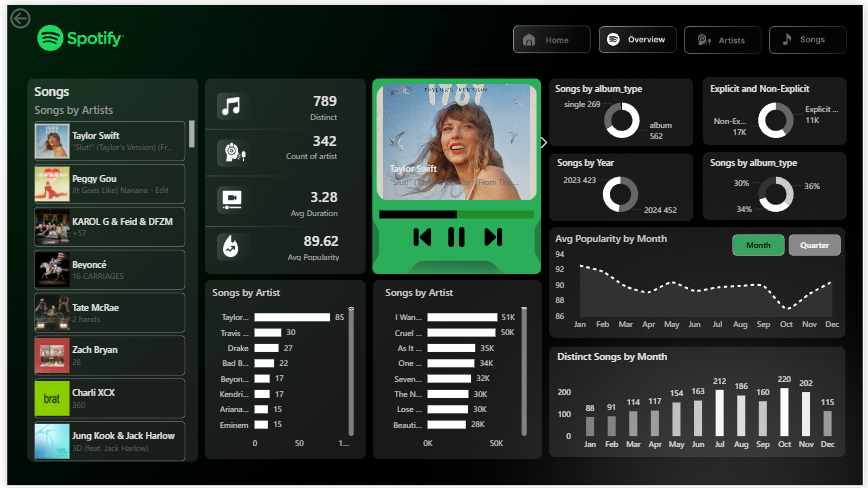

This screenshot's page, from the dashboard's own definition file:
{"tool":"powerbi","page":{"name":"Overview","canvas":[1280,720],"ordinal":1},"visuals":[{"type":"clusteredBarChart","title":"Songs by Artist","fields":{"Y":["_Measures.Distinct Songs"],"Category":["Top-50-World.artist"]},"box":[301.4,418.6,221.4,254.3],"z":0},{"type":"clusteredBarChart","title":"Songs by Artist","fields":{"Category":["Top-50-World.song"],"Y":["Sum(Top-50-World.popularity)"]},"box":[560,418.6,221.4,254.3],"z":1000},{"type":"areaChart","fields":{"Category":["Top-50-World.Month"],"Y":["_Measures.Avg Popularity"]},"box":[812.9,337.1,437.1,157.1],"z":2000},{"type":"advancedSlicerVisual","fields":{"Values":["Slicer_option.Slicer_option"]},"box":[1077.1,337.1,172.9,42.9],"z":3000},{"type":"donutChart","title":"Songs by album_type","fields":{"Category":["Top-50-World.album_type"],"Y":["_Measures.Distinct Songs"]},"box":[812.9,115.7,208.6,94.3],"z":4000},{"type":"donutChart","title":"Explicit and Non-Explicit","fields":{"Y":["_Measures.Explicit Songs","_Measures.Non-Explicit Songs"]},"box":[1044.3,115.7,205.7,94.3],"z":5000},{"type":"donutChart","title":"Songs by Year","fields":{"Y":["_Measures.Distinct Songs"],"Category":["Top-50-World.Year"]},"box":[817.1,227.1,198.6,94.3],"z":6000},{"type":"donutChart","title":"Songs by album_type","fields":{"Category":["Top-50-World.album_type"],"Y":["_Measures.Avg Popularity"]},"box":[1044.3,227.1,205.7,94.3],"z":7000},{"type":"clusteredColumnChart","fields":{"Category":["Top-50-World.Month"],"Y":["_Measures.Distinct Songs"]},"box":[817.1,512.9,432.9,160],"z":8000},{"type":"cardVisual","fields":{"Data":["_Measures.Distinct Songs"]},"box":[390,111.4,132.9,77.1],"z":9000},{"type":"cardVisual","fields":{"Data":["Count(Top-50-World.artist)"]},"box":[387.1,170,135.7,80],"z":10000},{"type":"cardVisual","fields":{"Data":["_Measures.Avg Duration Minutes"]},"box":[371.4,250,151.4,87.1],"z":11000},{"type":"cardVisual","fields":{"Data":["_Measures.Avg Popularity"]},"box":[384.3,321.4,141.4,78.6],"z":12000},{"type":"image","box":[317.1,342.9,44.3,32.9],"z":13000},{"type":"image","box":[316.7,275,38.3,33.3],"z":14000},{"type":"image","box":[323.3,205,33.3,30],"z":15000},{"type":"image","box":[318.3,136.7,31.7,26.7],"z":16000},{"type":"advancedSlicerVisual","title":"Songs","fields":{"Values":["Top-50-World.song"]},"box":[35.3,116.2,250,575],"z":17000},{"type":"advancedSlicerVisual","title":"Songs","fields":{"Values":["Top-50-World.song"]},"box":[525.7,111.4,291.4,185.7],"z":18000},{"type":"actionButton","box":[0,0,100,40],"z":19000},{"type":"hundredPercentStackedBarChart","fields":{"Y":["_Measures.Avg Popularity","Avg(Top-50-World.popularity)"]},"box":[550,277.1,241.4,62.9],"z":20000},{"type":"image","box":[600,331.4,40,30],"z":21000},{"type":"image","box":[651.4,331.4,40,30],"z":22000},{"type":"image","box":[705.7,331.4,40,30],"z":23000},{"type":"shape","box":[551.5,116.2,241.2,288.2],"z":24000},{"type":"actionButton","box":[755.9,29.4,116.2,45.6],"z":25000},{"type":"actionButton","box":[883.8,29.4,116.2,45.6],"z":26000},{"type":"actionButton","box":[1010.3,29.4,116.2,45.6],"z":27000},{"type":"actionButton","box":[1141.7,30,116.7,45],"z":28000}]}

Visuals, with their boxes on the page's 1280x720 design canvas (x1, y1, x2, y2). These are canvas units, not pixel positions in the 868x488 screenshot, which may show the page scaled, cropped or inside an application window:
"Songs by Artist" clusteredBarChart: crop(301, 419, 523, 673)
"Songs by Artist" clusteredBarChart: crop(560, 419, 781, 673)
areaChart - Top-50-World.Month x _Measures.Avg Popularity: crop(813, 337, 1250, 494)
advancedSlicerVisual - Slicer_option.Slicer_option: crop(1077, 337, 1250, 380)
"Songs by album_type" donutChart: crop(813, 116, 1022, 210)
"Explicit and Non-Explicit" donutChart: crop(1044, 116, 1250, 210)
"Songs by Year" donutChart: crop(817, 227, 1016, 321)
"Songs by album_type" donutChart: crop(1044, 227, 1250, 321)
clusteredColumnChart - Top-50-World.Month x _Measures.Distinct Songs: crop(817, 513, 1250, 673)
cardVisual - _Measures.Distinct Songs: crop(390, 111, 523, 188)
cardVisual - Count(Top-50-World.artist): crop(387, 170, 523, 250)
cardVisual - _Measures.Avg Duration Minutes: crop(371, 250, 523, 337)
cardVisual - _Measures.Avg Popularity: crop(384, 321, 526, 400)
image: crop(317, 343, 361, 376)
image: crop(317, 275, 355, 308)
image: crop(323, 205, 357, 235)
image: crop(318, 137, 350, 163)
"Songs" advancedSlicerVisual: crop(35, 116, 285, 691)
"Songs" advancedSlicerVisual: crop(526, 111, 817, 297)
actionButton: crop(0, 0, 100, 40)
hundredPercentStackedBarChart - _Measures.Avg Popularity x Avg(Top-50-World.popularity): crop(550, 277, 791, 340)
image: crop(600, 331, 640, 361)
image: crop(651, 331, 691, 361)
image: crop(706, 331, 746, 361)
shape: crop(552, 116, 793, 404)
actionButton: crop(756, 29, 872, 75)
actionButton: crop(884, 29, 1000, 75)
actionButton: crop(1010, 29, 1126, 75)
actionButton: crop(1142, 30, 1258, 75)
